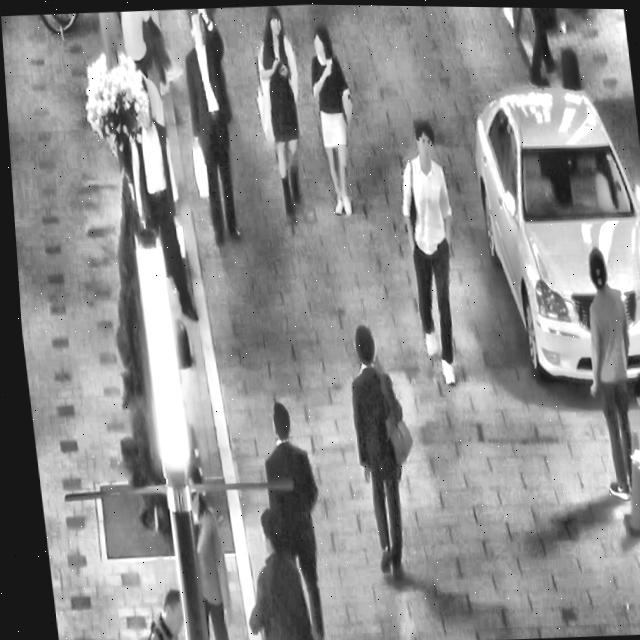light_vehicle: (458, 62, 640, 396)
